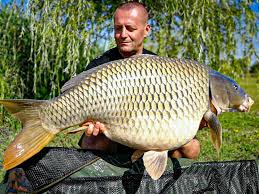carp: (1, 52, 256, 181)
